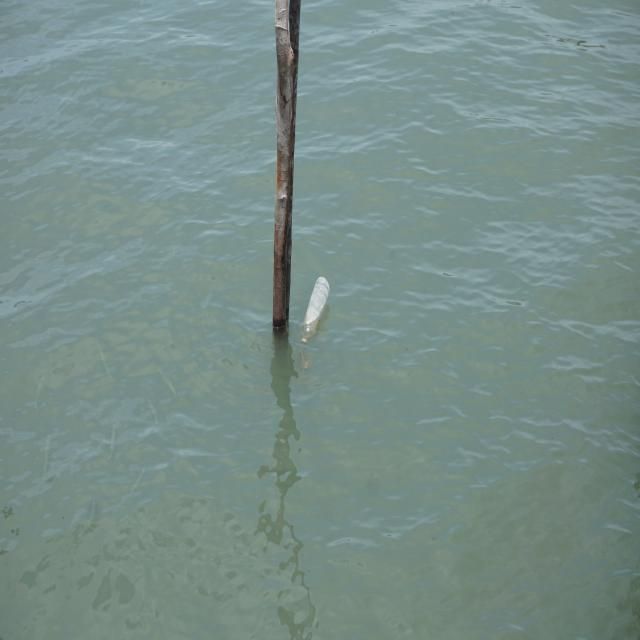Botol Plastik: (298, 273, 333, 353)
